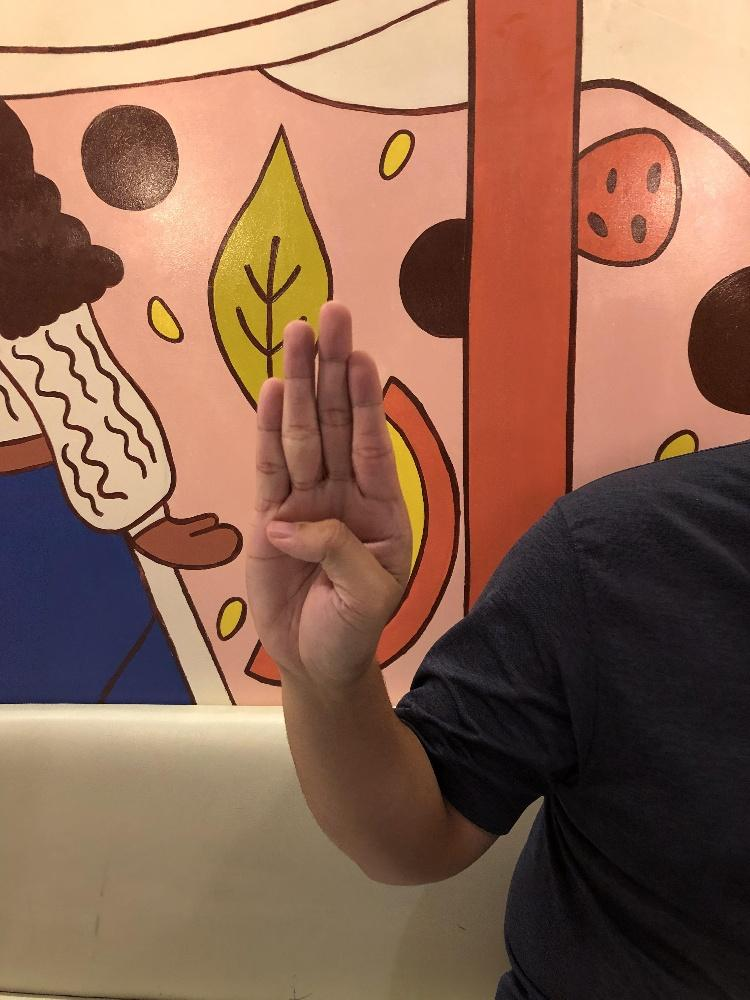b: (239, 300, 413, 685)
